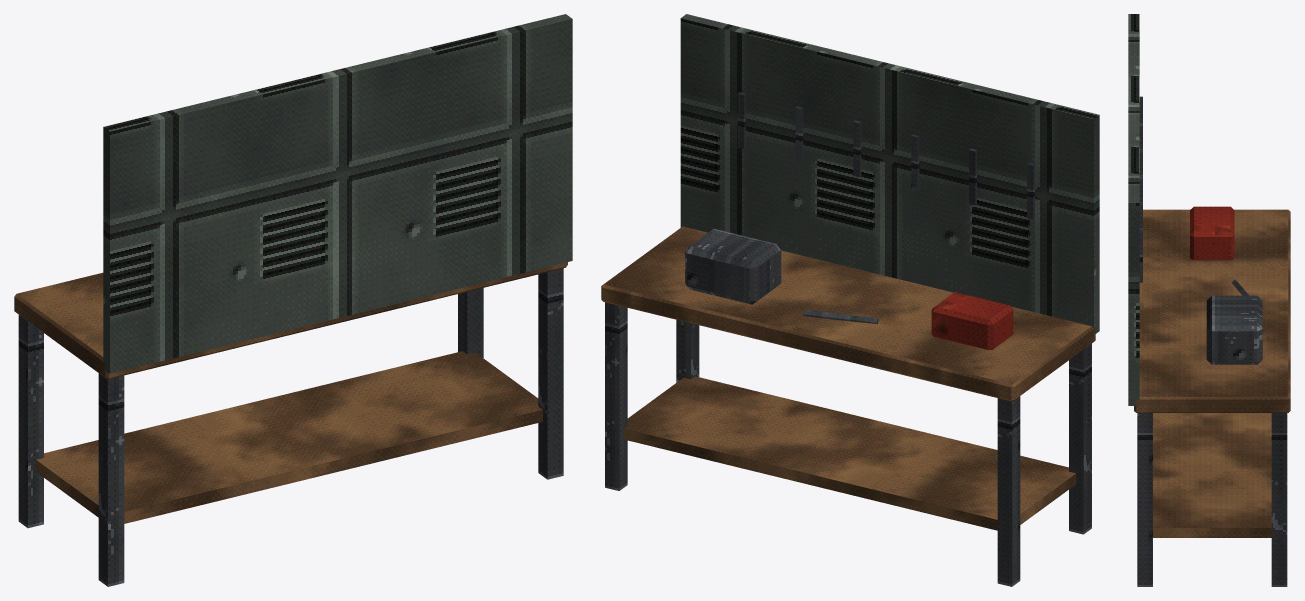
Rendered from int_workbench.glb.
3 renders of one model, left to right at view 1: azimuth 30°, elevation 25°; view 2: azimuth 150°, elevation 25°; view 3: azimuth 270°, elevation 25°, orthographic. The views are drawn at different scales.
Visible parts, largest first — view 1: int_workbench_mesh; view 2: int_workbench_mesh; view 3: int_workbench_mesh.
Boxes of the visible parts, x1,y1,x2,y2 form: int_workbench_mesh: [14, 14, 572, 586]; int_workbench_mesh: [601, 14, 1099, 586]; int_workbench_mesh: [1128, 14, 1290, 586].
Size of what is drawn, in the model's own units: 2 by 1.9 by 0.725.
4 materials, 4 textured.
